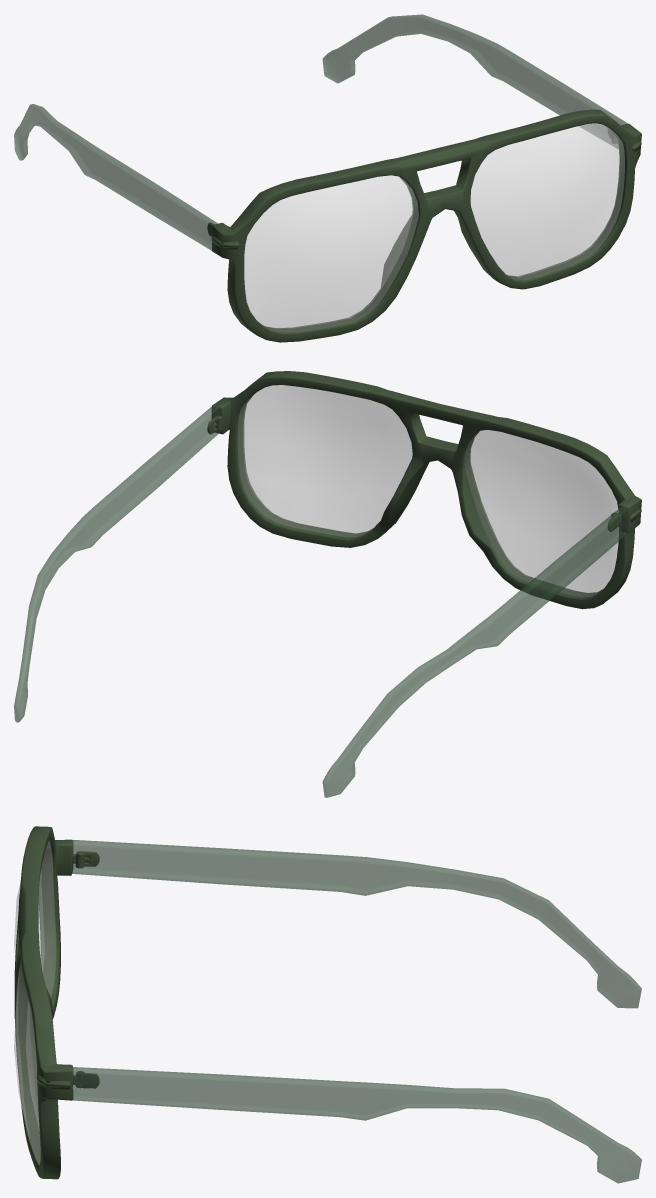
The model's file is panto-ince-zeytin-yesili.glb.
3 views of the same model, one above another, from view 1: azimuth 30°, elevation 25°; view 2: azimuth 150°, elevation 25°; view 3: azimuth 270°, elevation 25° (orthographic). The views are drawn at different scales.
Parts seen in each view (by area): view 1: OPTIK_PRODUCT_234; view 2: OPTIK_PRODUCT_234; view 3: OPTIK_PRODUCT_234.
Part boxes in pixels (x1,y1,x2,y2): OPTIK_PRODUCT_234: (14, 14, 641, 342); OPTIK_PRODUCT_234: (14, 371, 641, 797); OPTIK_PRODUCT_234: (14, 826, 641, 1183).
Size of the model in its own units: 0.1566 by 0.0575 by 0.1785.
